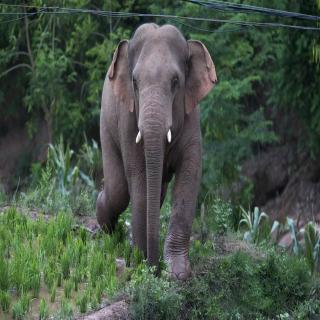Elephant: (83, 13, 220, 282)
